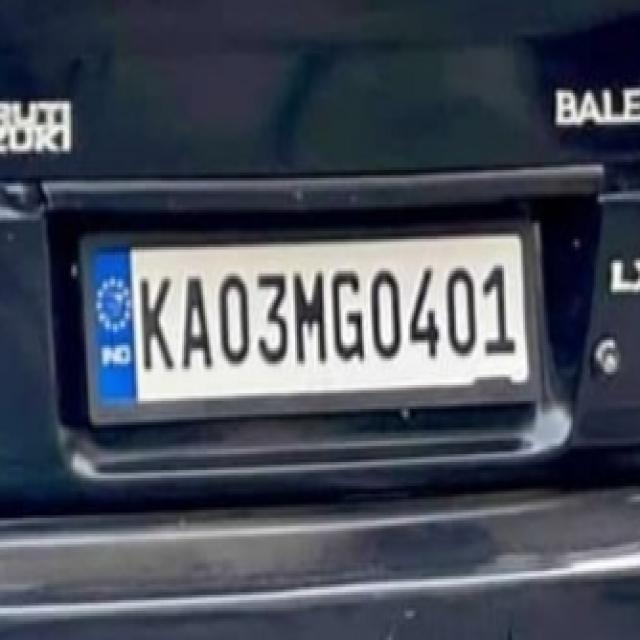0: (214, 263, 256, 371), (368, 270, 408, 365), (444, 263, 480, 365)
1: (481, 262, 518, 364)
3: (250, 262, 290, 366)
4: (408, 262, 446, 370)
A: (178, 264, 216, 378)
G: (326, 263, 369, 371)
K: (135, 264, 177, 388)
M: (288, 263, 332, 374)
